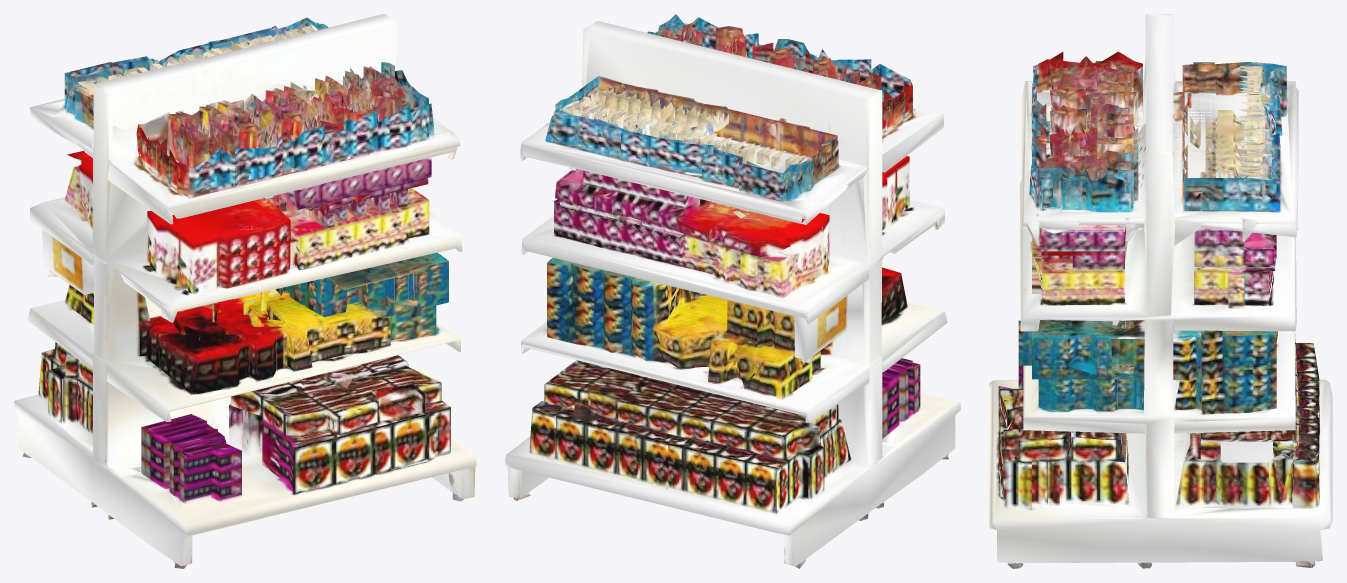
File: gondola_lite.glb
3 renders of one model, left to right at view 1: azimuth 30°, elevation 25°; view 2: azimuth 150°, elevation 25°; view 3: azimuth 270°, elevation 25°, orthographic. The views are drawn at different scales.
Size of the model in its own units: 1.38 by 1.89 by 1.42.
1 material, 1 textured.
